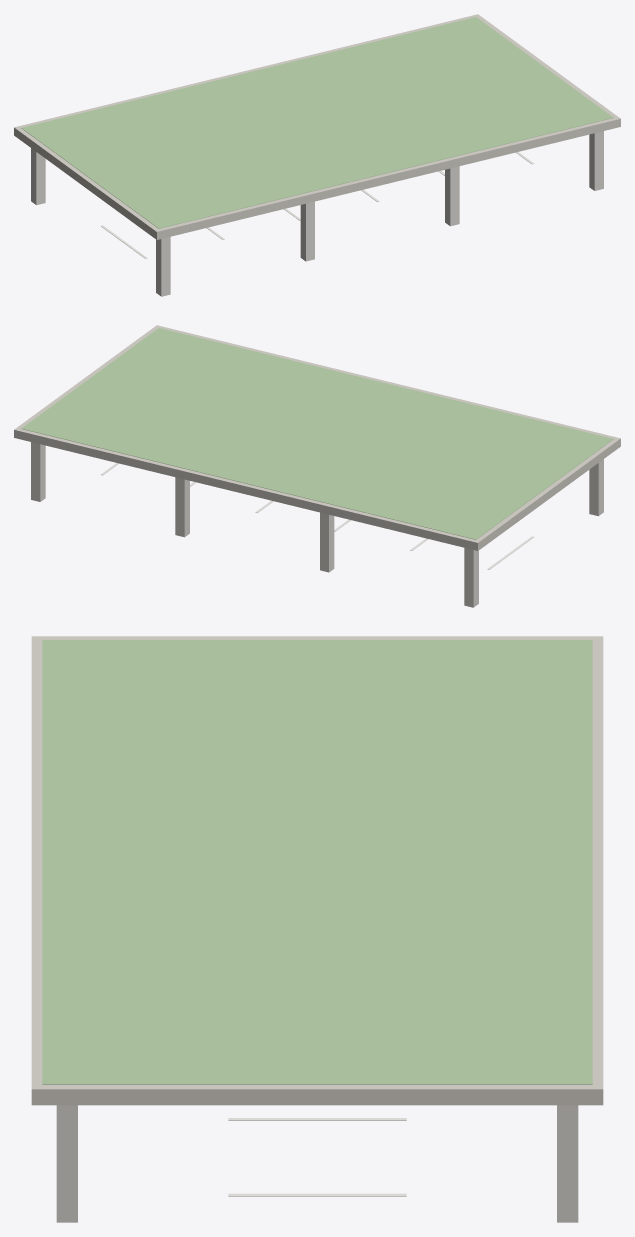
The model's file is covered_parking.glb.
3 views of the same model, one above another, from view 1: azimuth 30°, elevation 25°; view 2: azimuth 150°, elevation 25°; view 3: azimuth 270°, elevation 25° (orthographic). The views are drawn at different scales.
Visible parts, largest first — view 1: CoveredParking; view 2: CoveredParking; view 3: CoveredParking.
Part boxes in pixels (bbox=[...]): CoveredParking: bbox=[14, 14, 620, 296]; CoveredParking: bbox=[14, 325, 620, 607]; CoveredParking: bbox=[31, 636, 603, 1222].
Size of the model in its own units: 30 by 4.47 by 16.
